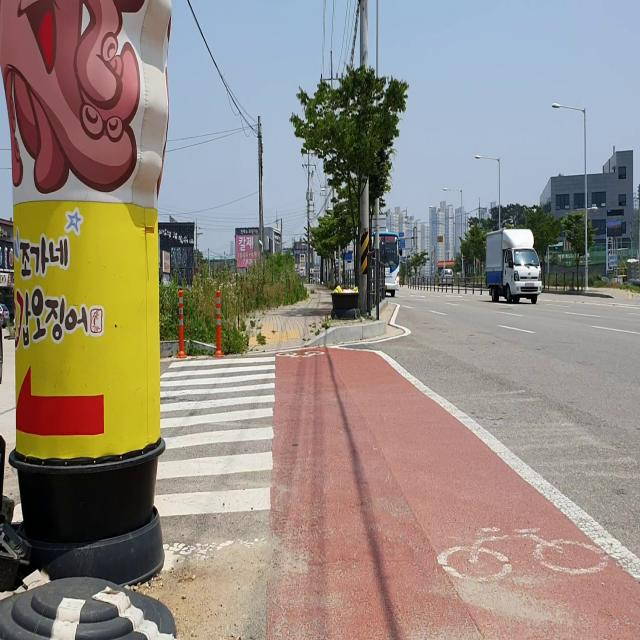횡단보도: (8, 354, 277, 573)
